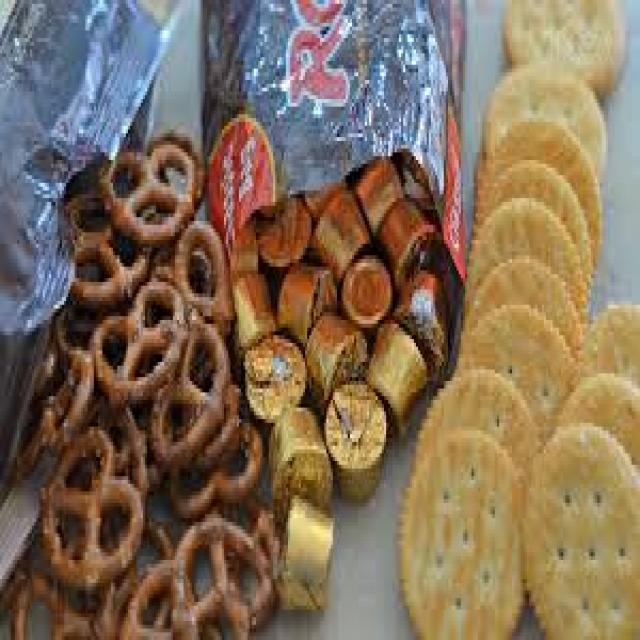Salatini: (36, 107, 627, 633)
